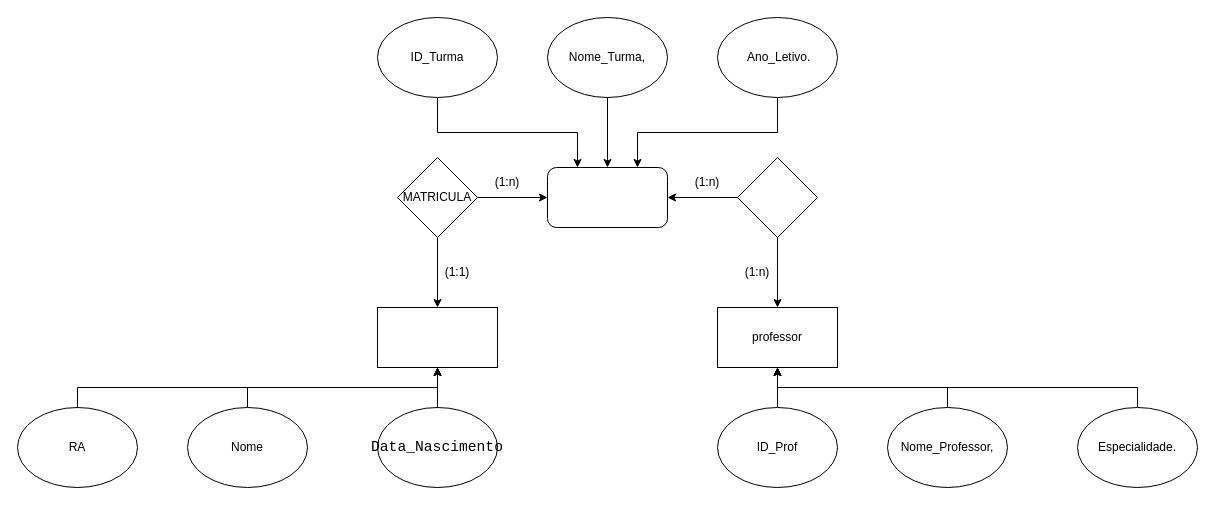
Some shapes in this 1215 by 505 pixel diagram are drawn without their labels. Here are the shapes that lost their labels. From the top down, the centre of each, then its label:
point (607, 197): turma
point (777, 197): LECIONA
point (437, 337): aluno
